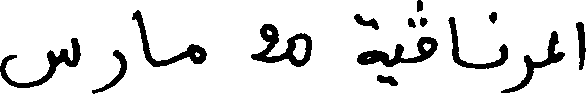0: (286, 31, 310, 67)
2: (249, 21, 277, 63)
ا: (135, 7, 151, 66), (447, 15, 459, 65), (574, 20, 584, 70)
ة: (352, 11, 378, 81)
ر: (91, 48, 126, 92), (505, 43, 533, 92)
س: (0, 36, 78, 89)
ق: (405, 17, 435, 63)
ل: (546, 28, 558, 53)
م: (185, 41, 205, 64), (542, 48, 566, 63)
ن: (487, 9, 507, 72)
ي: (376, 20, 402, 86)
